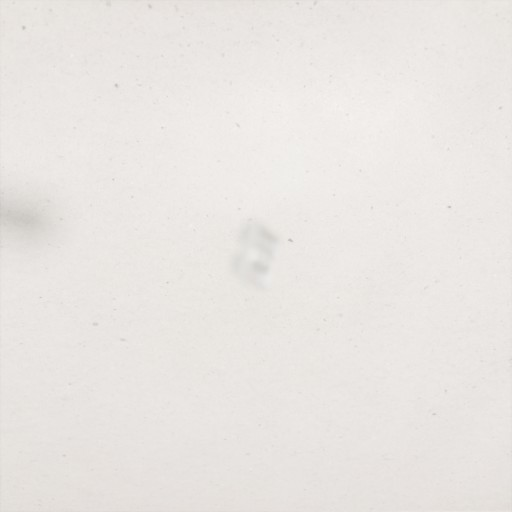lego: (231, 218, 282, 292)
